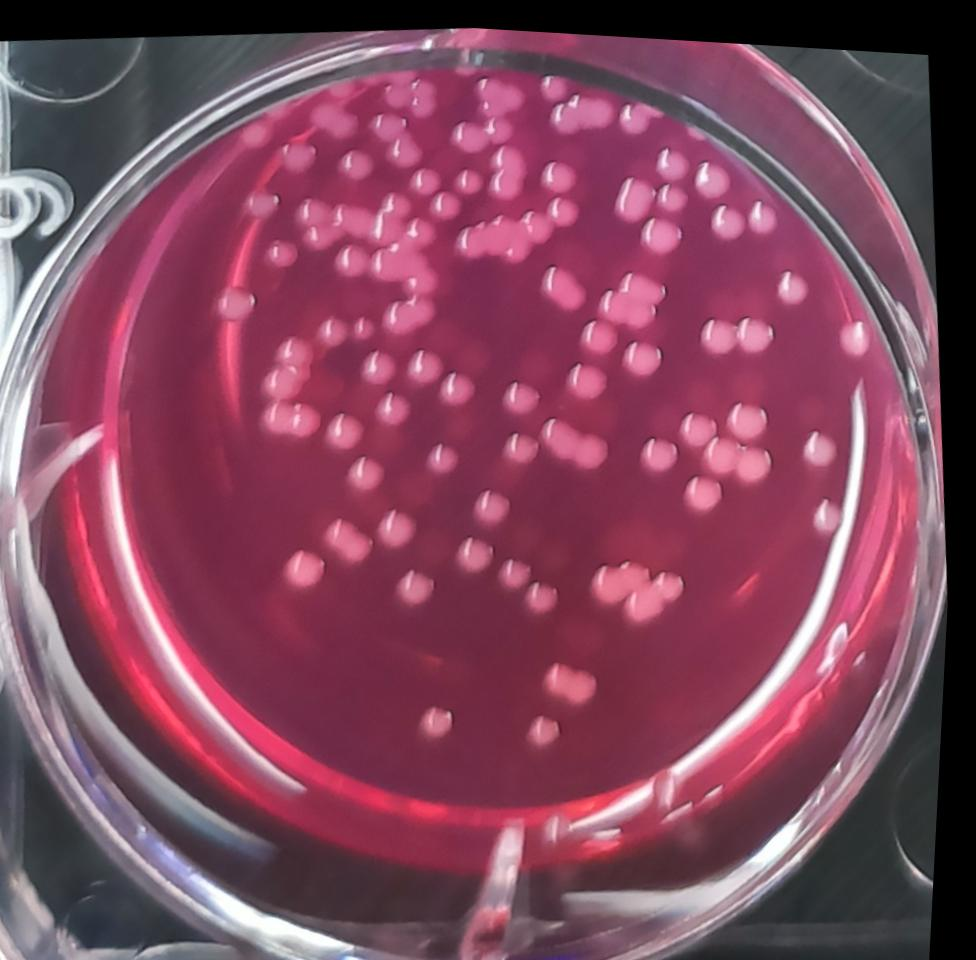bcereus: (578, 541, 699, 626), (537, 639, 617, 704), (255, 390, 331, 444), (675, 456, 736, 513), (414, 690, 472, 742)
